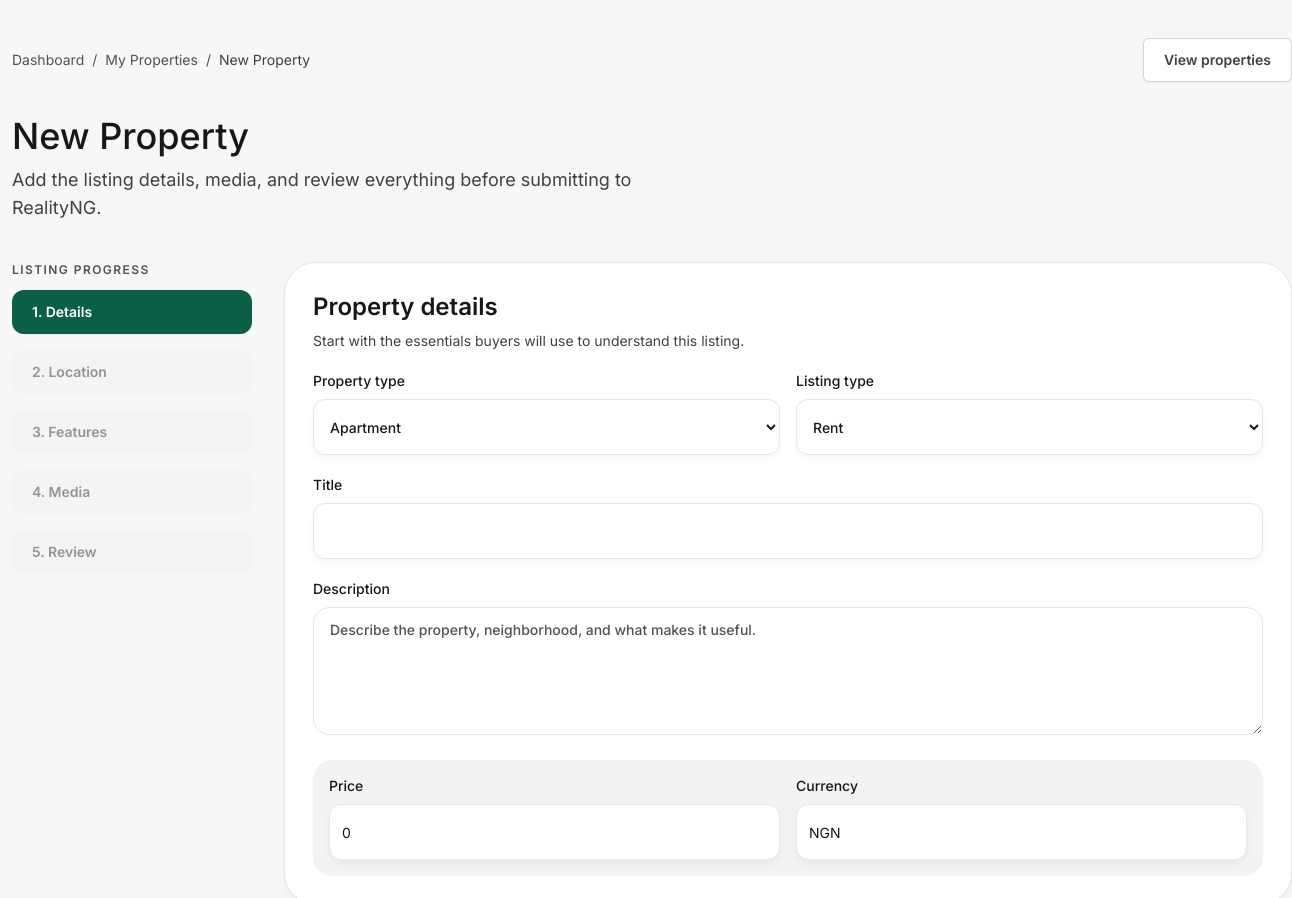
Scenario: NewPropertyPage › requires apartment property type for apartment-share listings
In the field labelled "Title": {"x": 788, "y": 531} [313,503,1263,559], type "Shared Home in Lekki"
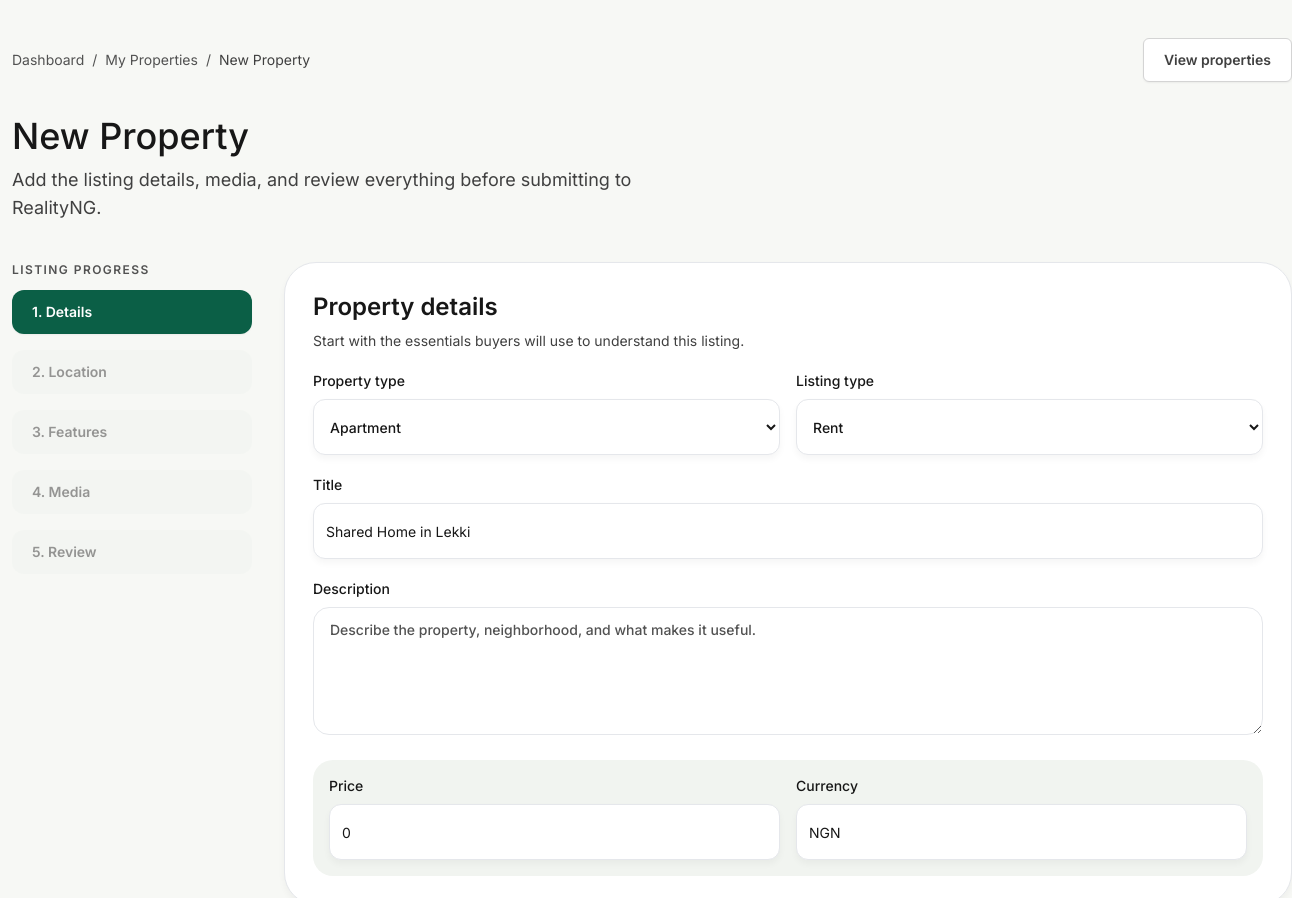
Replace the text in the text box labelled "Description" with "A furnished room in a calm shared home near key roads.": {"x": 788, "y": 671} [313,607,1263,735]
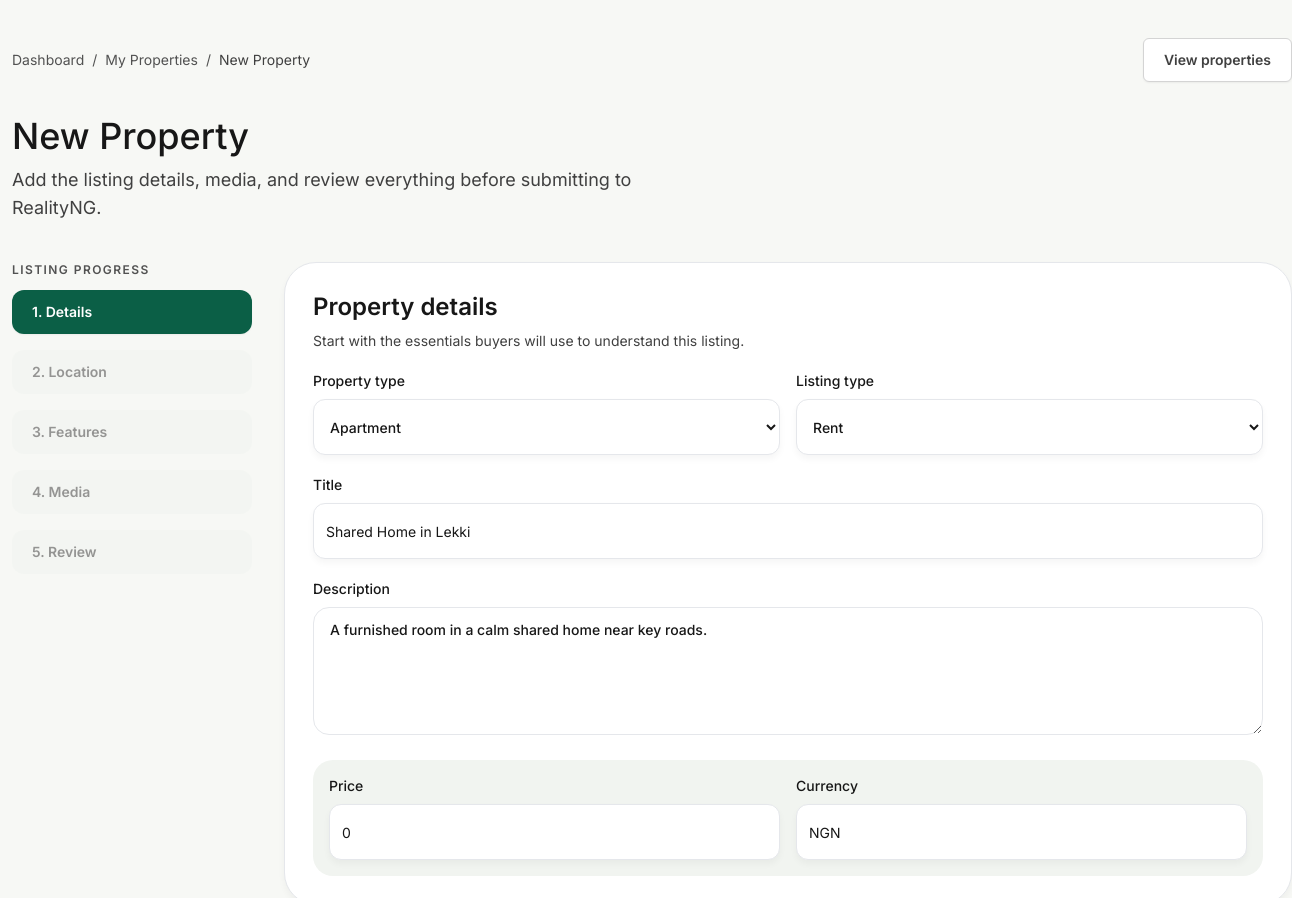
Replace the text in the number field labelled "Price" with "1500000": {"x": 554, "y": 832} [329,804,780,860]
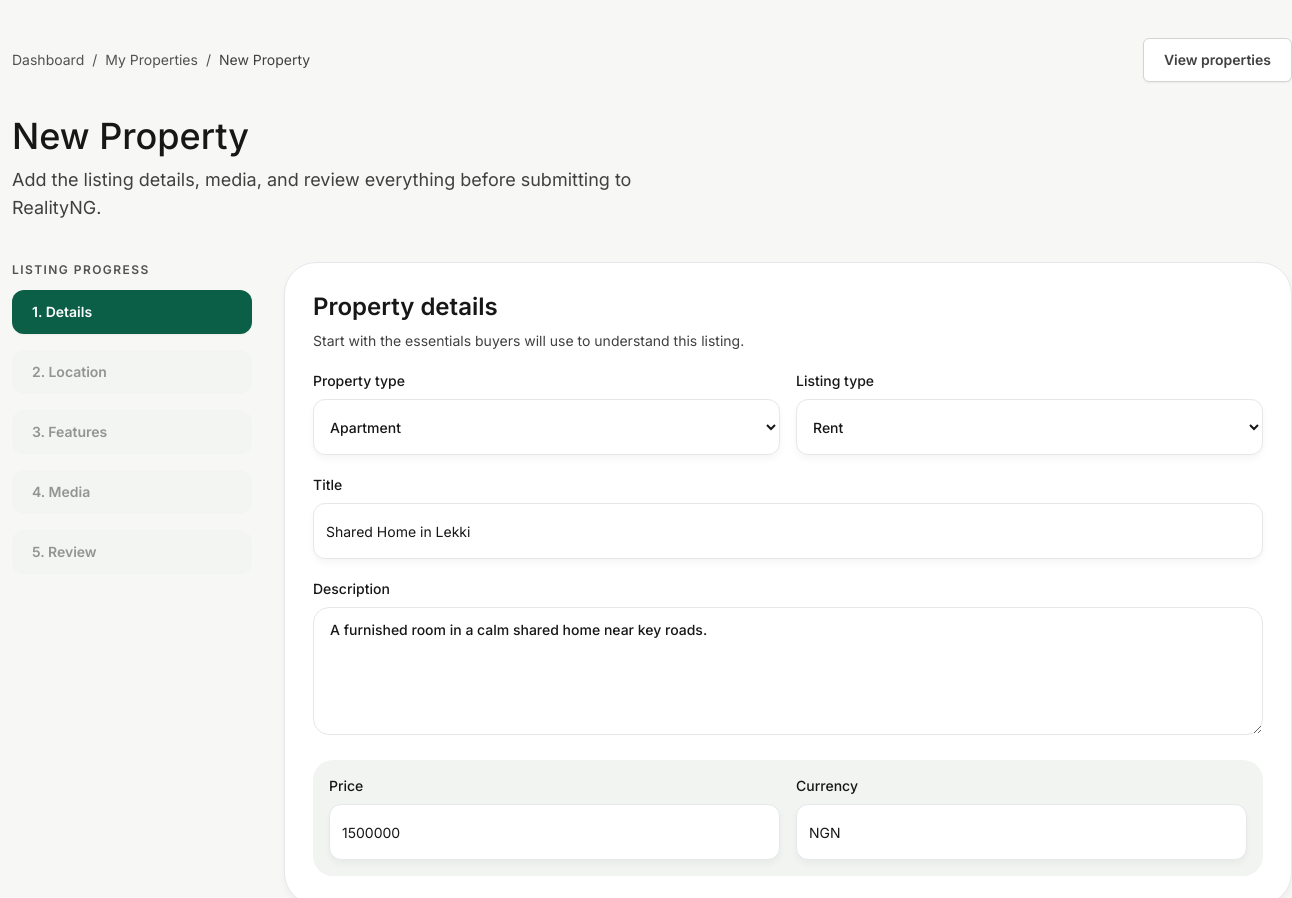
Select "House" in the dropdown labelled "Property type": {"x": 546, "y": 427} [313,399,780,455]
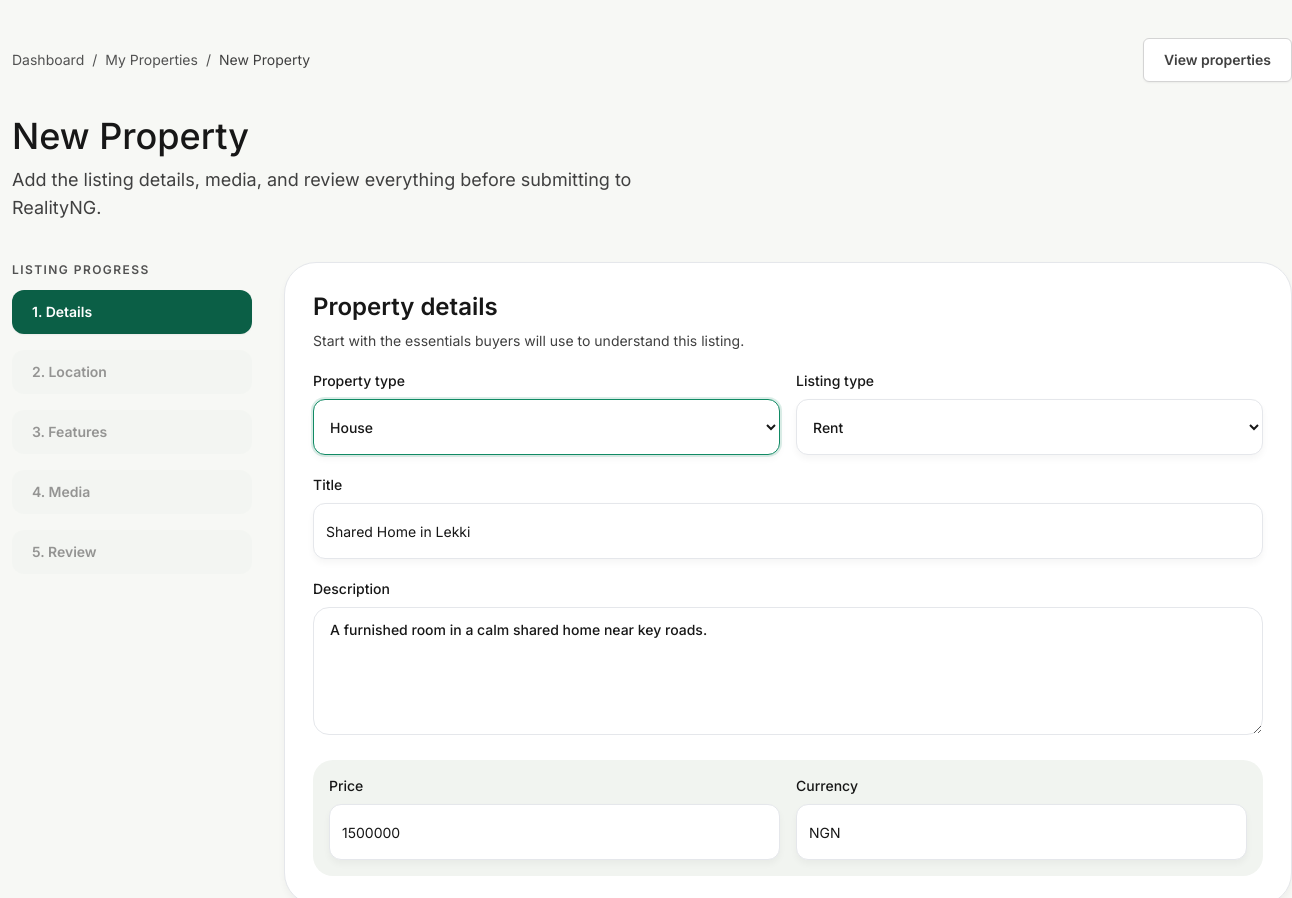
Select "Apartment share" in the dropdown labelled "Listing type": {"x": 1030, "y": 427} [796,399,1263,455]
(page scrolled)
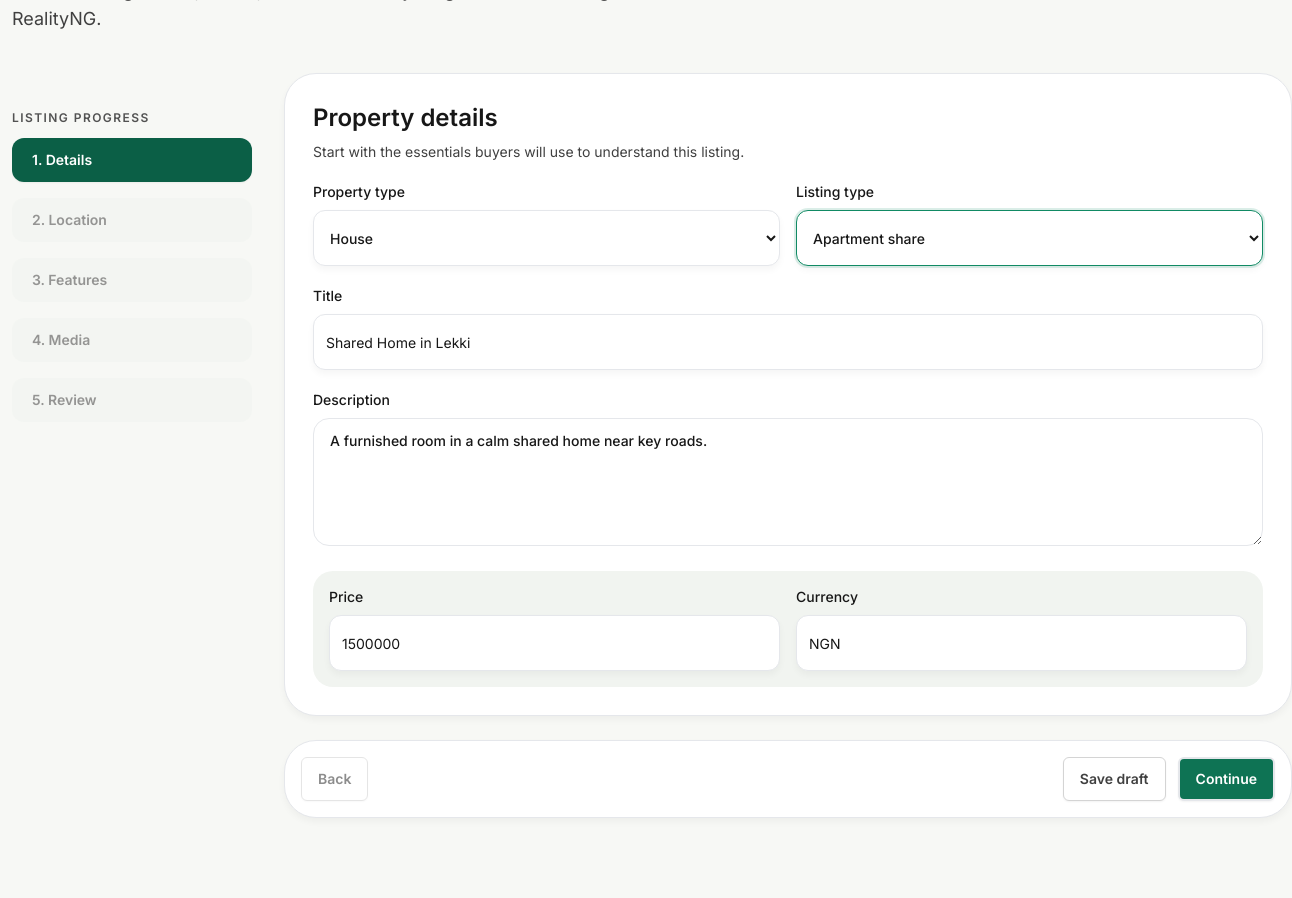
Click the button "Continue": {"x": 1226, "y": 779} [1178,757,1275,801]
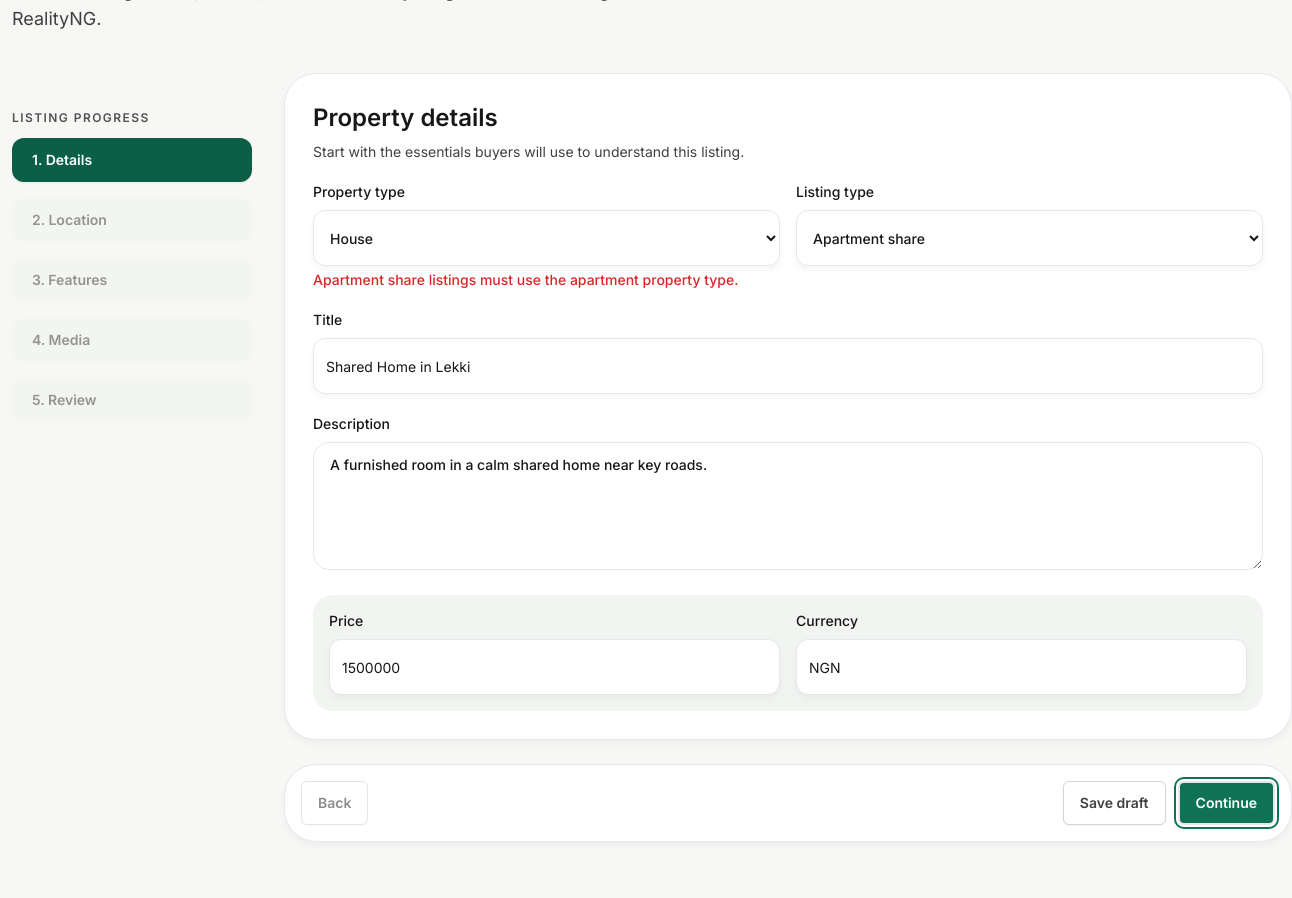
expect the text "Apartment share listings must use the apartment property type." is shown: met, box [313,270,780,290]
